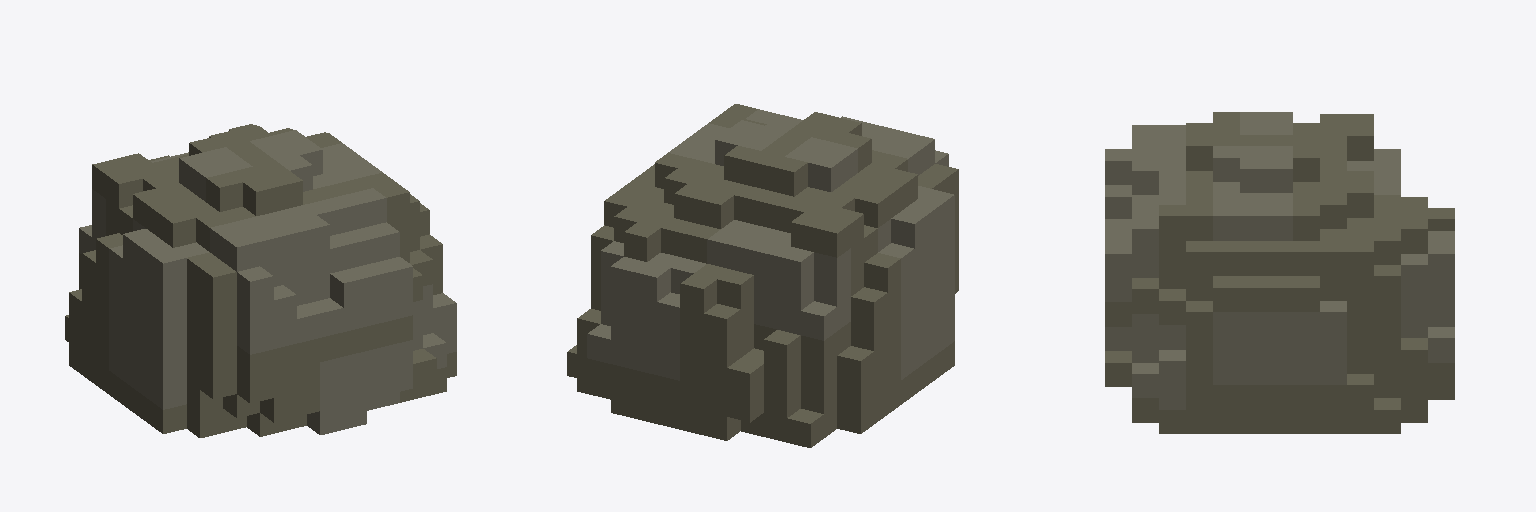
The picture shows the model from 3 angles: view 1: azimuth 30°, elevation 25°; view 2: azimuth 150°, elevation 25°; view 3: azimuth 270°, elevation 25°; orthographic projection.
Visible parts, largest first — view 1: object 1; view 2: object 1; view 3: object 1.
Boxes of the visible parts, box(x1,y1,x2,y2) form: object 1: box(65, 124, 456, 437); object 1: box(567, 104, 958, 447); object 1: box(1105, 112, 1454, 433).
Bounding box in the file's own units: 1.2 × 0.9 × 1.3.
Materials: 1 (1 with a texture image).